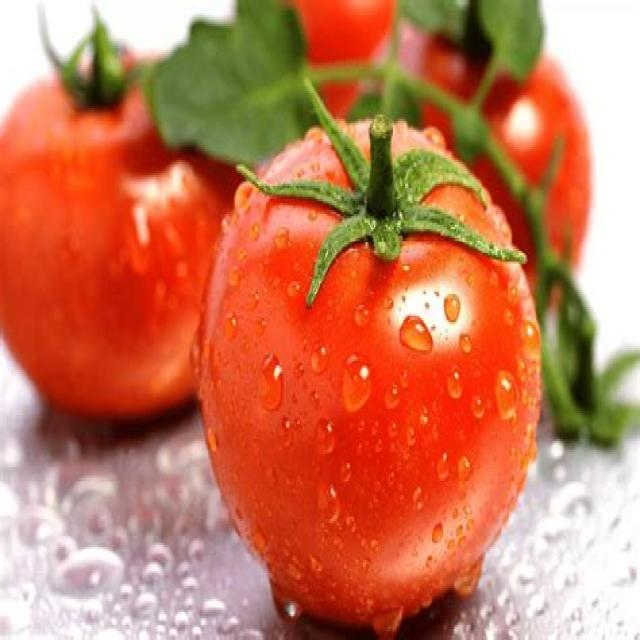Tomato: (198, 110, 543, 640), (0, 21, 245, 426)
